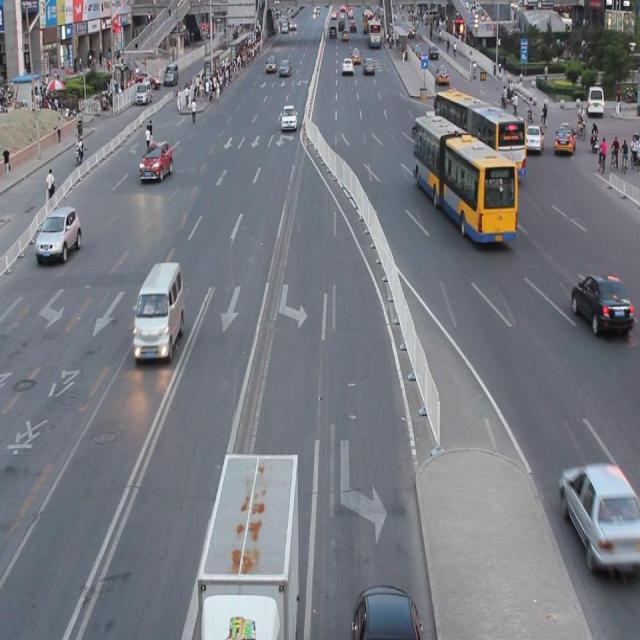bus: (196, 451, 299, 640)
car: (556, 460, 640, 571), (351, 582, 422, 640), (569, 270, 633, 334), (36, 206, 82, 260)
truck: (134, 262, 183, 358)
van: (413, 115, 517, 245)
